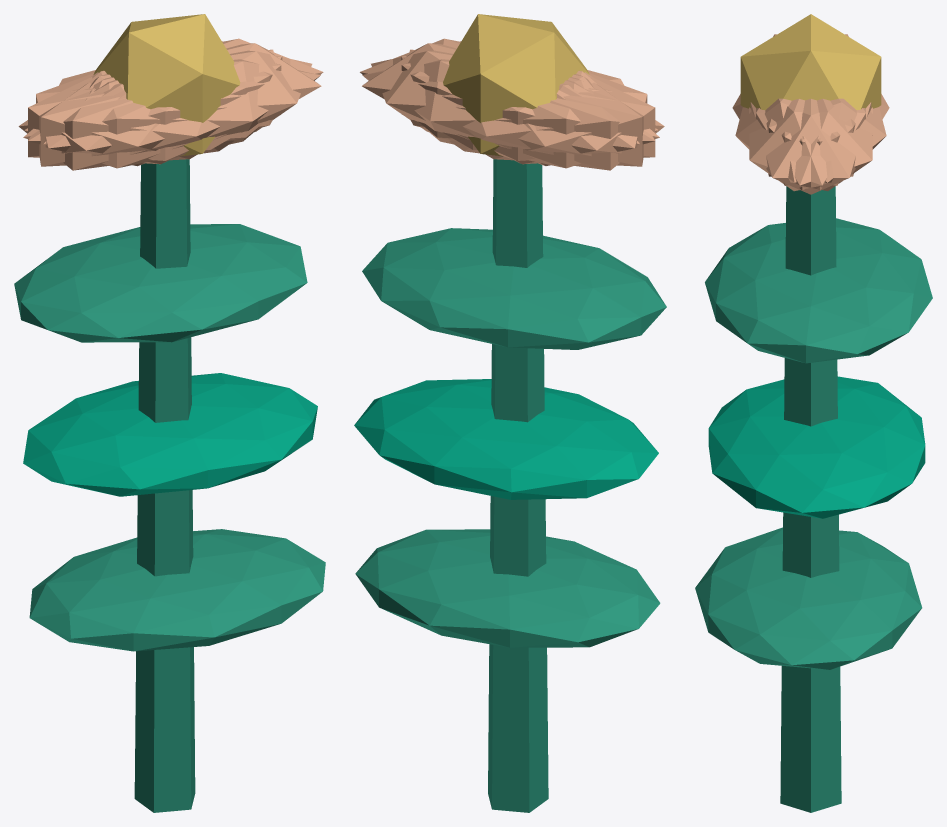
File: ageratum-houstonianum.glb
3 views of the same model, side by side, from view 1: azimuth 30°, elevation 25°; view 2: azimuth 150°, elevation 25°; view 3: azimuth 270°, elevation 25° (orthographic).
Parts seen in each view (by area): view 1: leaf0, leaf2, leaf1, stem, center, petal1, petal6, petal2, petal5, petal7, petal0, petal4 (+2 smaller); view 2: leaf2, leaf1, leaf0, stem, center, petal8, petal3, petal7, petal4, petal2, petal0, petal5 (+2 smaller); view 3: leaf2, leaf0, leaf1, stem, center, petal0, petal5, petal4, petal1, petal8.
Part boxes in pixels (x1,y1,x2,y2): leaf0: [29, 529, 325, 651]; leaf2: [14, 224, 307, 342]; leaf1: [23, 373, 317, 496]; stem: [134, 159, 195, 812]; center: [93, 14, 240, 156]; petal1: [23, 59, 320, 168]; petal6: [18, 72, 233, 170]; petal2: [39, 49, 273, 166]; petal5: [43, 50, 312, 160]; petal7: [28, 56, 282, 164]; petal0: [93, 43, 321, 150]; petal4: [24, 38, 323, 141]; leaf2: [362, 228, 666, 349]; leaf1: [354, 379, 658, 499]; leaf0: [355, 529, 660, 647]; stem: [488, 159, 548, 812]; center: [443, 14, 589, 156]; petal8: [362, 59, 659, 168]; petal3: [449, 72, 664, 170]; petal7: [409, 49, 643, 166]; petal4: [371, 50, 639, 160]; petal2: [401, 56, 655, 164]; petal0: [362, 43, 589, 150]; petal5: [360, 38, 658, 141]; leaf2: [705, 218, 932, 363]; leaf0: [695, 527, 922, 669]; leaf1: [708, 376, 925, 518]; stem: [780, 186, 841, 812]; center: [740, 14, 881, 110]; petal0: [750, 99, 871, 194]; petal5: [749, 99, 865, 191]; petal4: [756, 99, 872, 191]; petal1: [735, 98, 855, 182]; petal8: [766, 98, 886, 182].
Size of the model in its own units: 0.1452 by 0.3683 by 0.1035.
